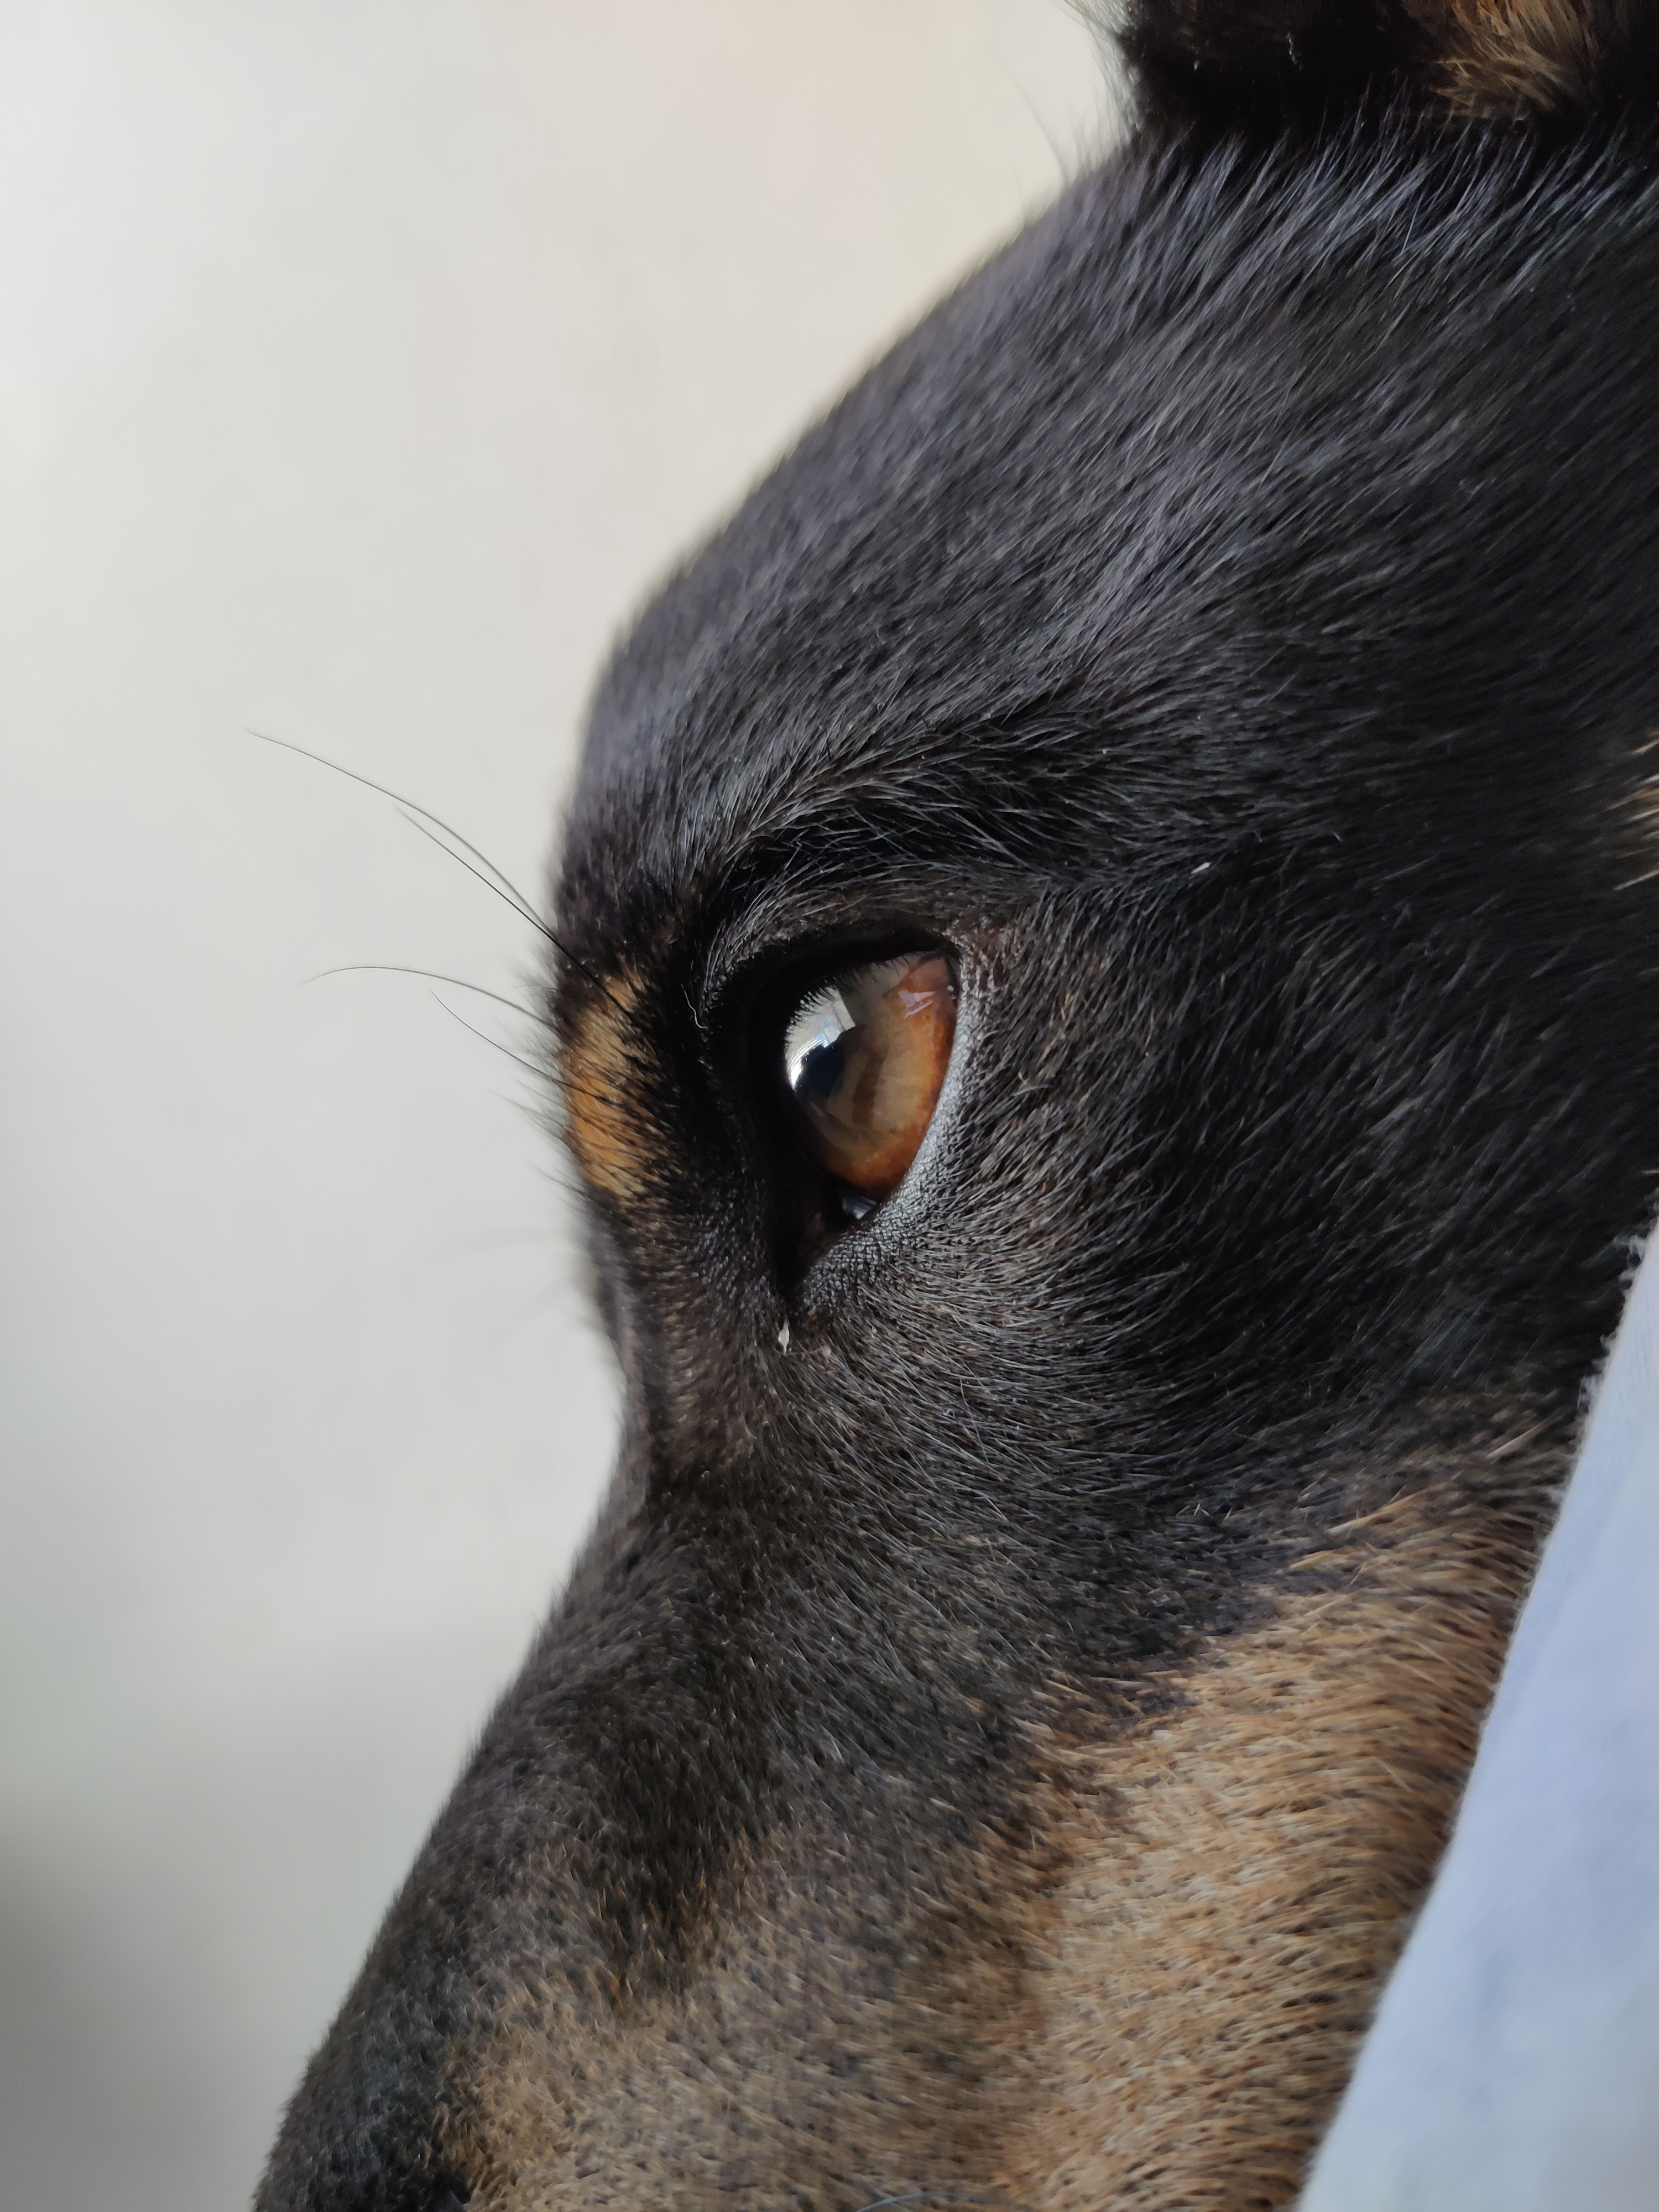Dog: (237, 0, 1659, 2212)
